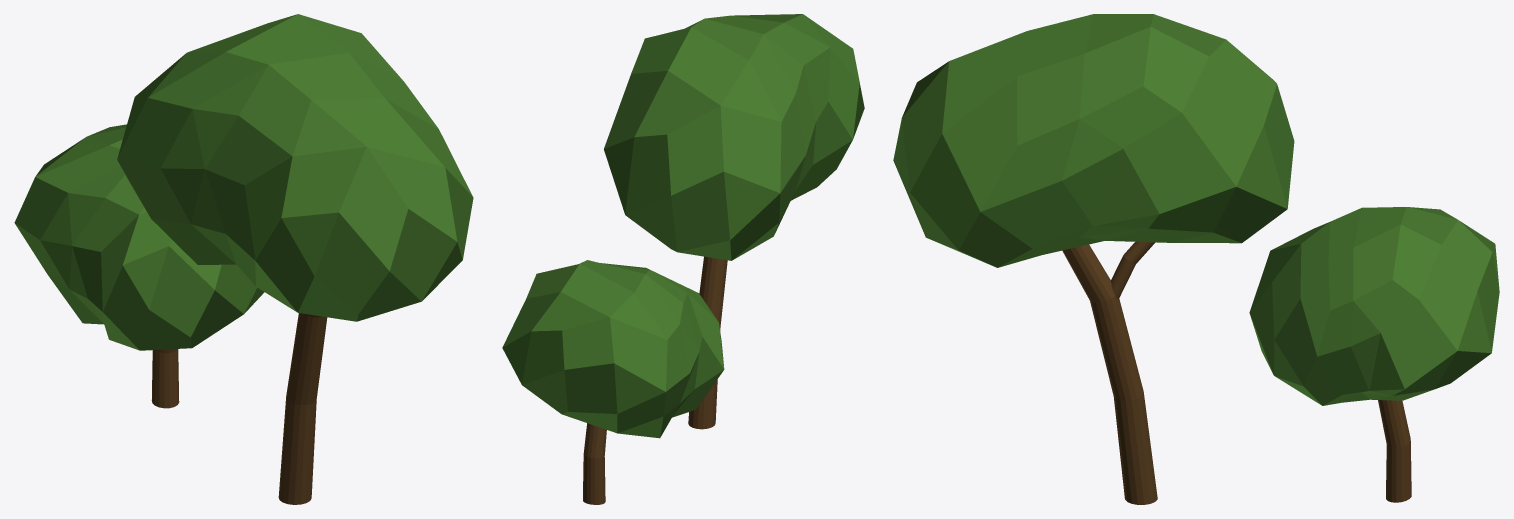
The model's file is high bush.fbx.
The picture shows the model from 3 angles, left to right: view 1: azimuth 30°, elevation 25°; view 2: azimuth 150°, elevation 25°; view 3: azimuth 270°, elevation 25°; orthographic projection. The views are drawn at different scales.
Visible parts, largest first — view 1: bush long, bush long.001; view 2: bush long, bush long.001; view 3: bush long, bush long.001.
Boxes of the visible parts, x1,y1,x2,y2 form: bush long: (117, 14, 473, 504); bush long.001: (14, 124, 264, 408); bush long: (604, 14, 864, 429); bush long.001: (502, 260, 724, 504); bush long: (893, 14, 1294, 504); bush long.001: (1249, 207, 1499, 502).
Size of the model in its own units: 905 by 1767 by 2043.
